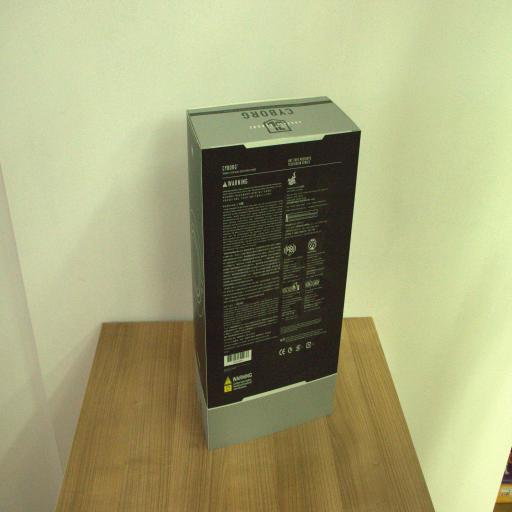Cyborg: (186, 96, 362, 452)
